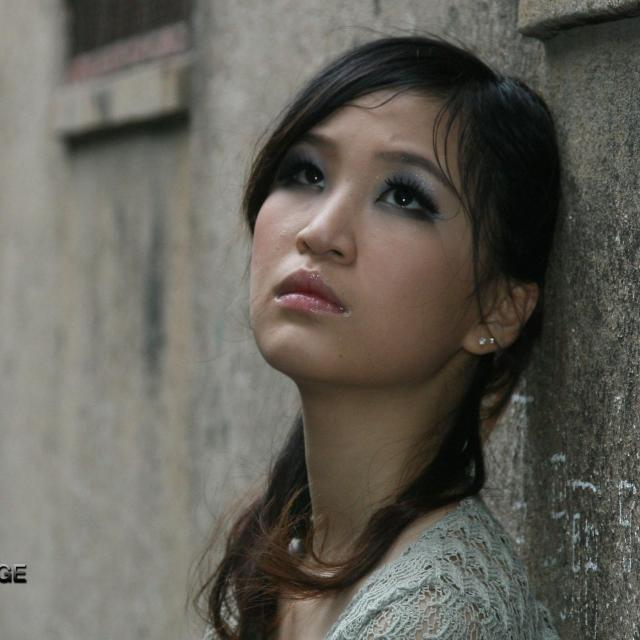no-glass: (281, 154, 438, 221)
